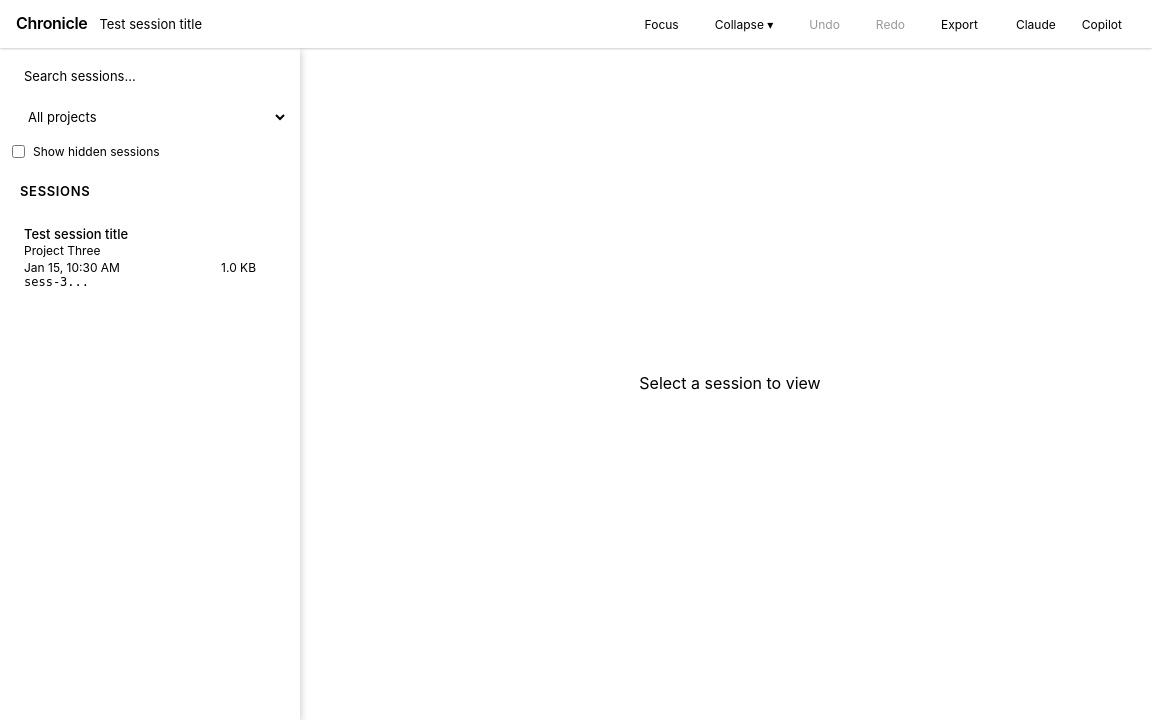
App › renders session viewer when session loaded
Click the text "Project Three".
click(62, 250)  # box [24,243,100,258]
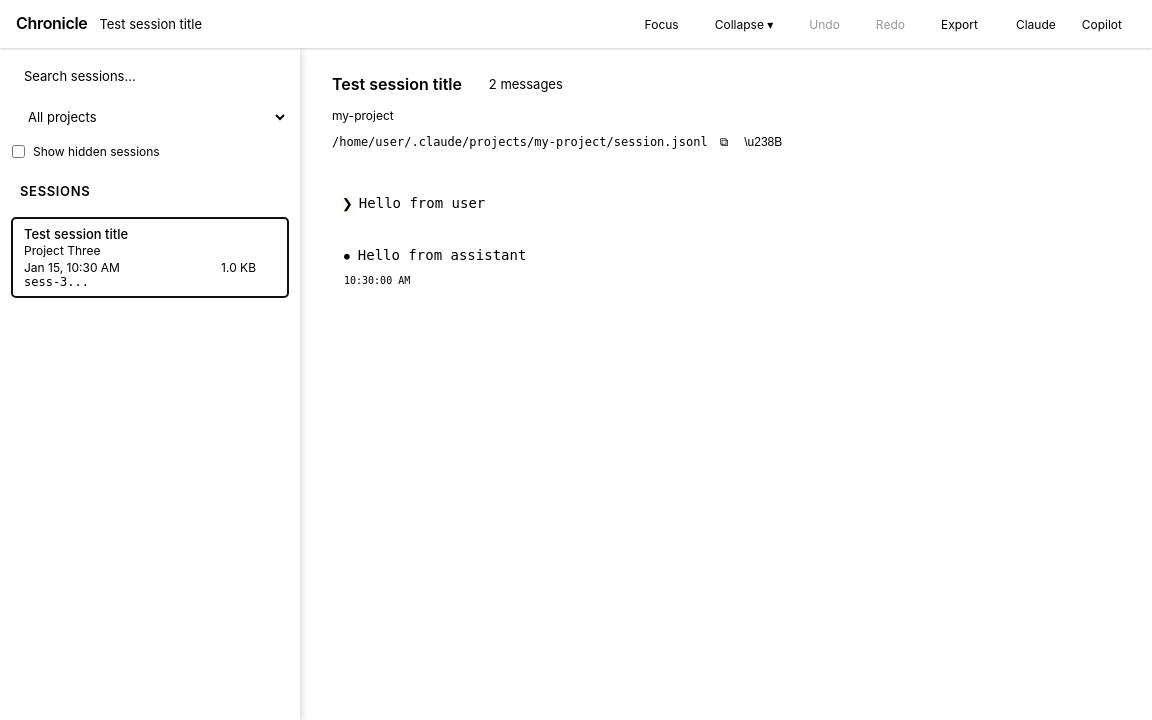
Expected: the element with class "session-viewer" is shown, [332,74,786,286]
